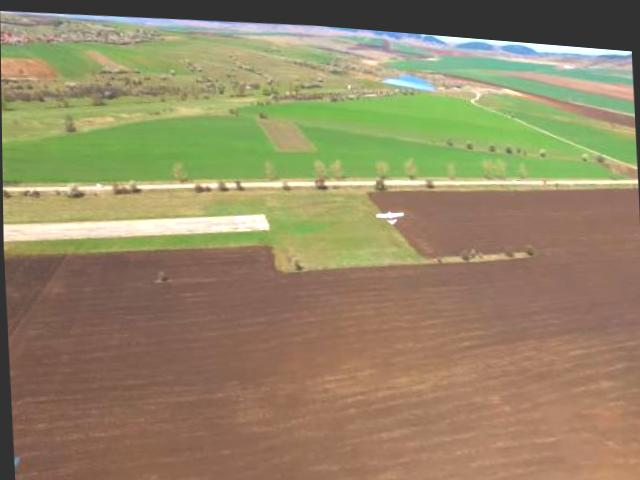uav: (372, 195, 408, 224)
